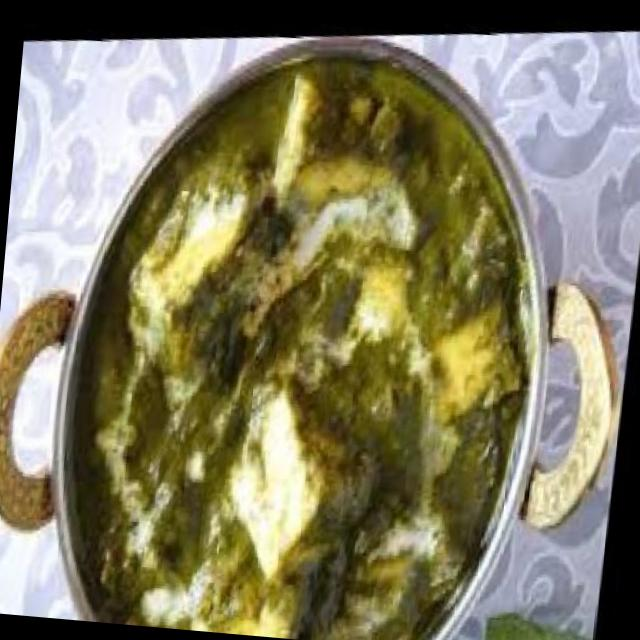palak_paneer: (53, 12, 567, 640)
